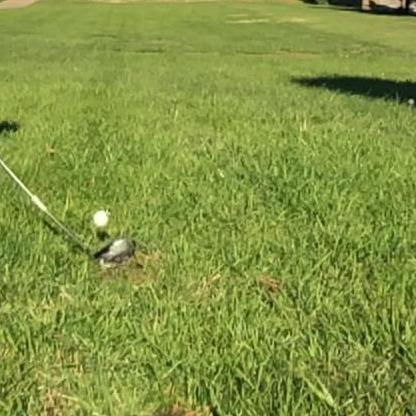golfball: (90, 208, 109, 225)
